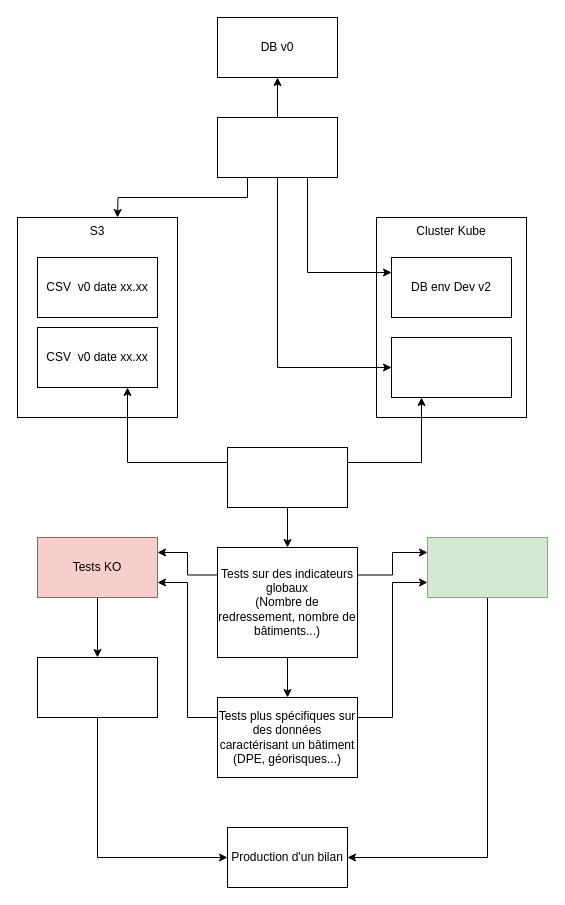
The diagram is 565 pixels wide and 905 high, and some of its shapes have lost their labels. Here are the shapes that lost their labels. From the top down, the centre of each, then its label:
At point 277,147: "Script de migration".
At point 451,367: "DB env Recette v2".
At point 287,477: "Tests de cohérence".
At point 487,567: "Tests OK".
At point 97,687: "Tickets d'anomalies".
